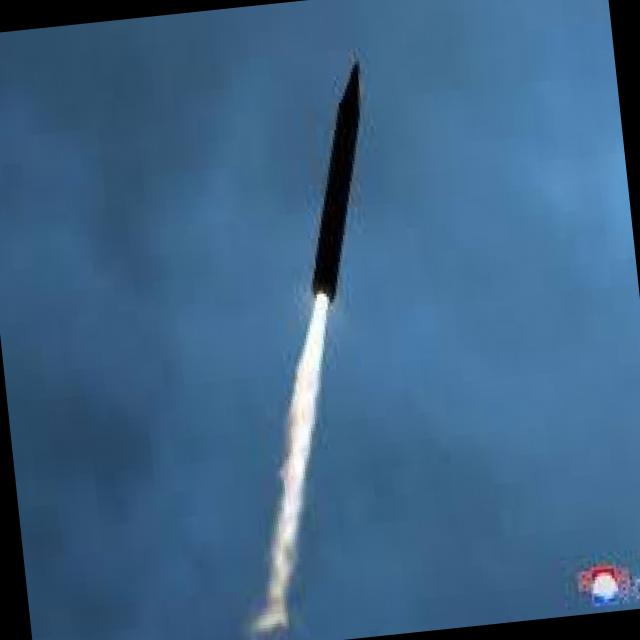rocket: (210, 51, 428, 577)
